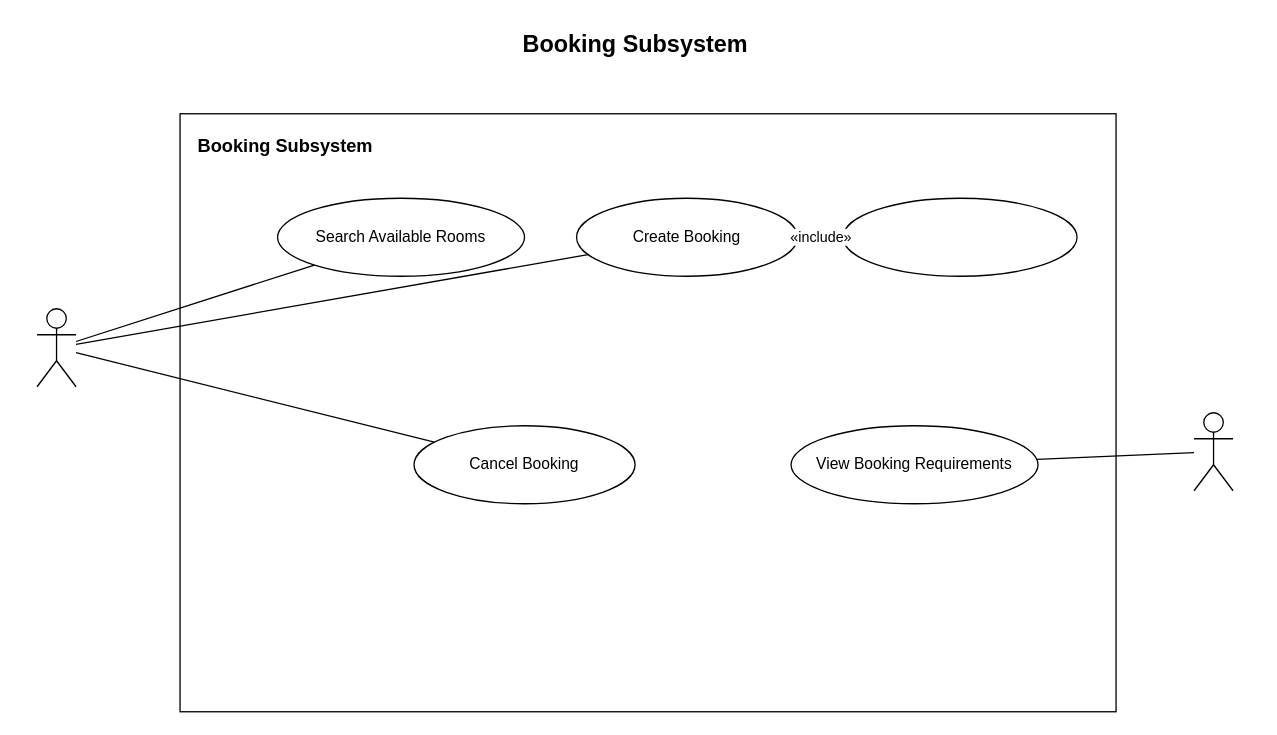
Image size: 1277x735. Some labels were removed from this diagram. The shapes that lost their labels are listed below. From the top down, each one's centre as x and y in pixels, then its label:
the point at 959,236: Validate Booking Request
the point at 56,347: Employee
the point at 1213,451: Office Clerk
